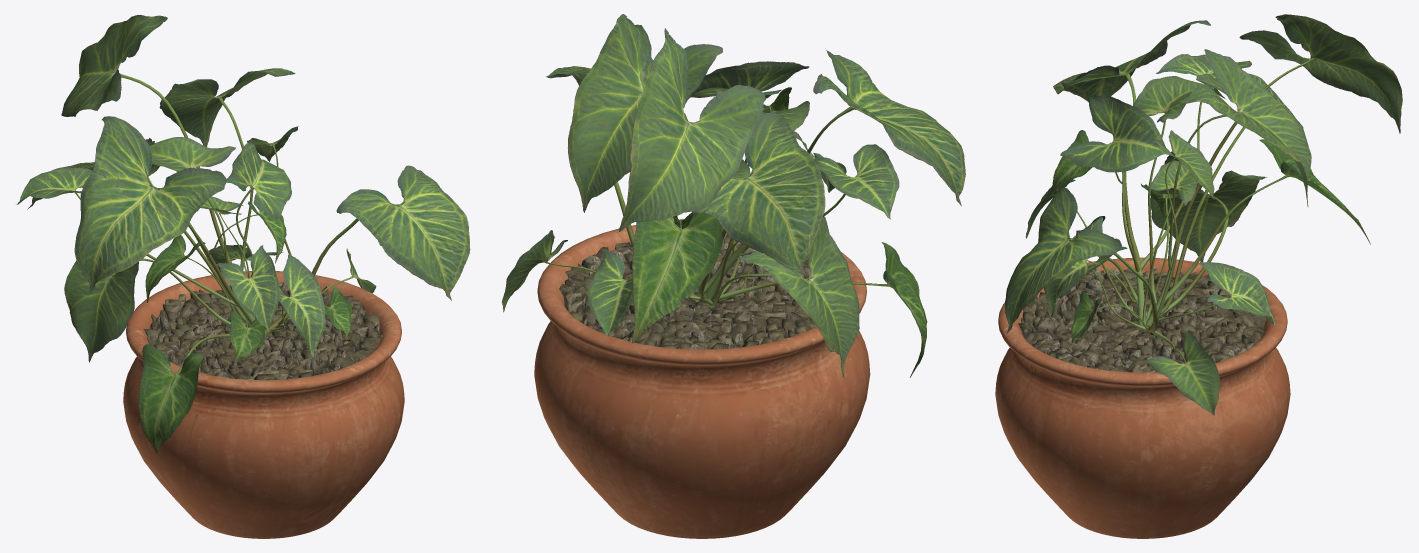
File: plant_heartleaf.glb
3 views of the same model, side by side, from view 1: azimuth 30°, elevation 25°; view 2: azimuth 150°, elevation 25°; view 3: azimuth 270°, elevation 25° (orthographic). The views are drawn at different scales.
Visible parts, largest first — view 1: potted_plant_02_leaves, potted_plant_02_pot; view 2: potted_plant_02_leaves, potted_plant_02_pot; view 3: potted_plant_02_pot, potted_plant_02_leaves.
Part boxes in pixels (x1,y1,x2,y2): potted_plant_02_leaves: [16, 15, 470, 452]; potted_plant_02_pot: [123, 271, 404, 538]; potted_plant_02_leaves: [502, 14, 965, 377]; potted_plant_02_pot: [534, 219, 870, 538]; potted_plant_02_pot: [995, 257, 1290, 538]; potted_plant_02_leaves: [1005, 14, 1402, 415].
Size of the model in its own units: 0.7012 by 0.8412 by 0.6574.
2 materials, 2 textured.
